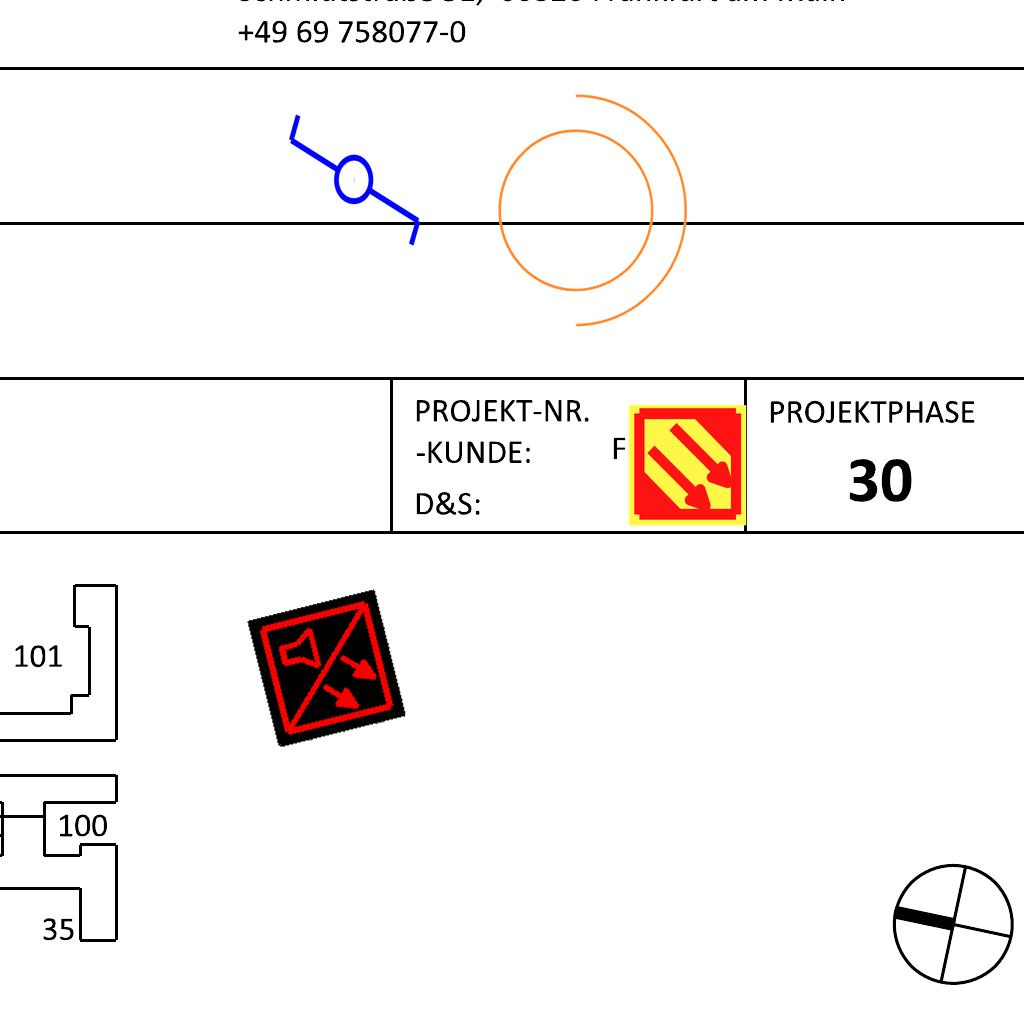ASR_Ansaugrauchmelder: (625, 403, 750, 528)
OKW_Multisensormelder_(Kombination_optischer_Rauch-Kahlenmonoxid_Waerme-Melder): (246, 588, 408, 750)
Scheinwerfer_fuer_Alarmbeleuchtung: (473, 72, 698, 336)
Wechselschalter: (284, 93, 428, 250)
